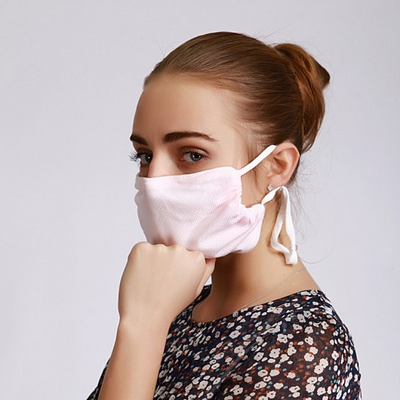face_mask: (130, 78, 259, 258)
